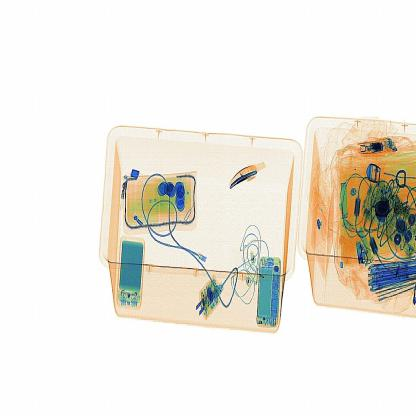pliers: (224, 148, 274, 197)
